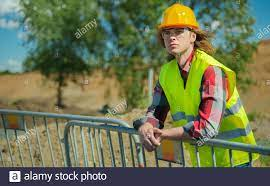Helmet: (154, 4, 200, 28)
Jacket: (158, 64, 262, 165)
